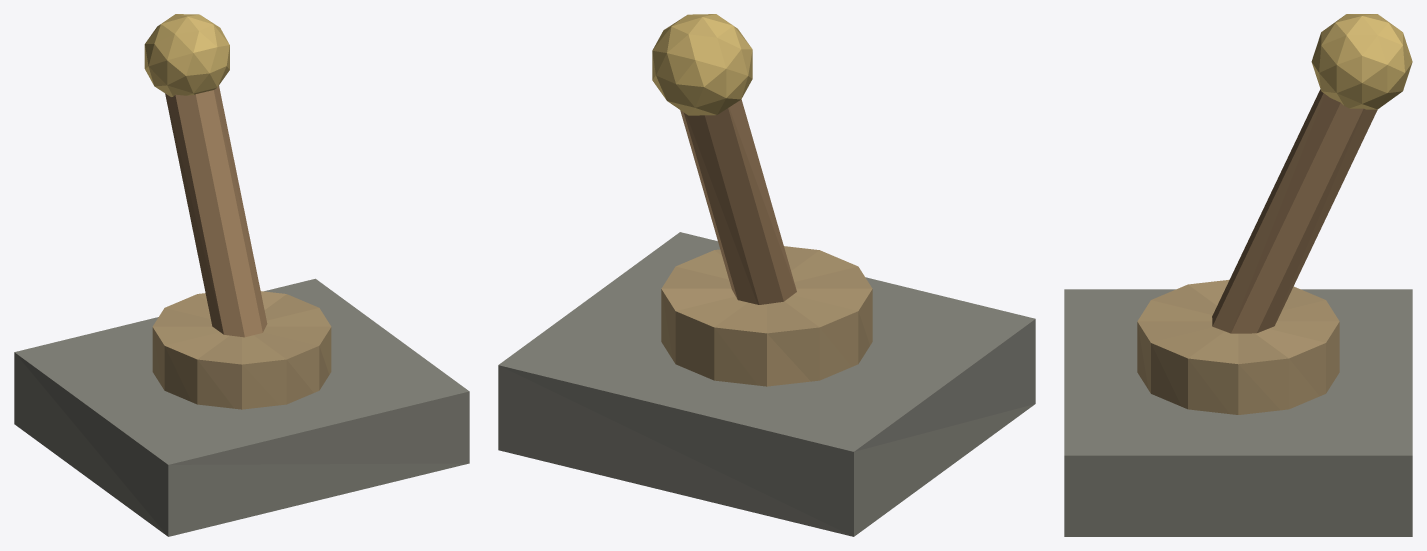
The model's file is lever_stone.glb.
The picture shows the model from 3 angles, left to right: view 1: azimuth 30°, elevation 25°; view 2: azimuth 150°, elevation 25°; view 3: azimuth 270°, elevation 25°; orthographic projection. The views are drawn at different scales.
Visible parts, largest first — view 1: base, hub, handle, knob; view 2: base, hub, handle, knob; view 3: base, hub, handle, knob.
Boxes of the visible parts, x1,y1,x2,y2 form: base: (14, 278, 469, 536); hub: (152, 291, 331, 409); handle: (165, 86, 267, 337); knob: (144, 14, 229, 96); base: (498, 232, 1035, 536); hub: (661, 246, 872, 386); handle: (680, 99, 796, 304); knob: (652, 14, 752, 115); base: (1064, 289, 1412, 536); hub: (1137, 279, 1339, 414); handle: (1212, 89, 1377, 333); knob: (1311, 14, 1412, 109).
Size of the model in its own units: 0.7 by 0.86 by 0.62.
